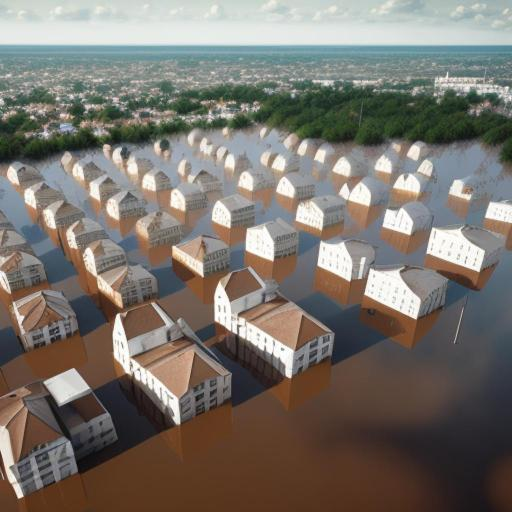flood: (0, 126, 512, 512), (335, 141, 512, 225), (128, 136, 239, 199), (208, 128, 280, 165), (34, 156, 87, 203), (238, 188, 300, 223), (72, 150, 128, 187), (297, 156, 344, 195)
house: (0, 367, 120, 501), (216, 264, 341, 384), (128, 319, 236, 431), (6, 281, 80, 348), (427, 223, 491, 289), (318, 234, 378, 296), (245, 216, 301, 274), (96, 260, 160, 308), (173, 230, 229, 280), (294, 192, 350, 237), (383, 200, 433, 246), (135, 207, 183, 251), (83, 238, 129, 282), (212, 191, 252, 241), (276, 170, 318, 204), (171, 179, 205, 217), (486, 198, 512, 239), (3, 161, 41, 189), (448, 176, 476, 210)
